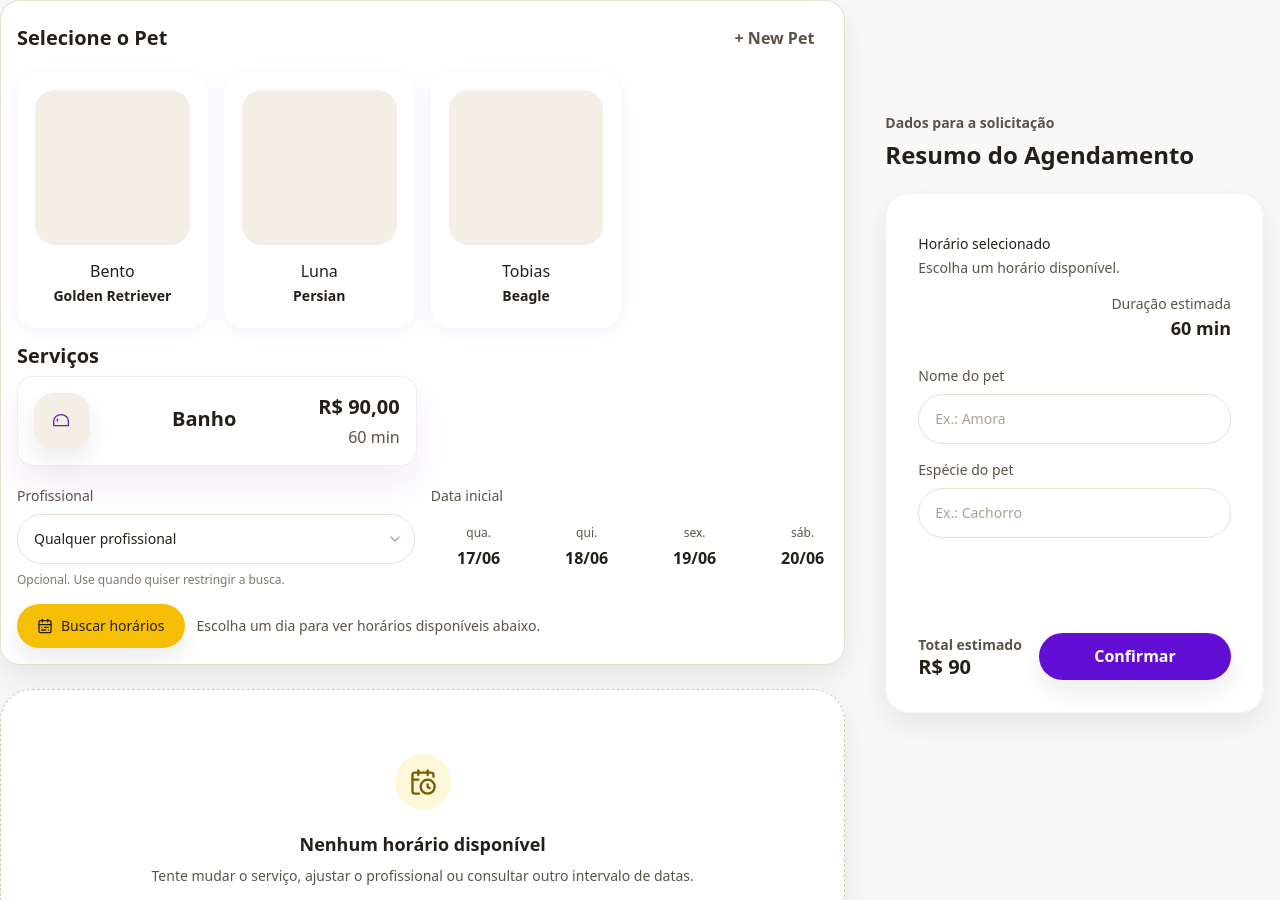
BookingPageClient › shows validation messages when the user submits without required data
Click the button "Confirmar" at (1135, 657), box [1039,633,1231,680]
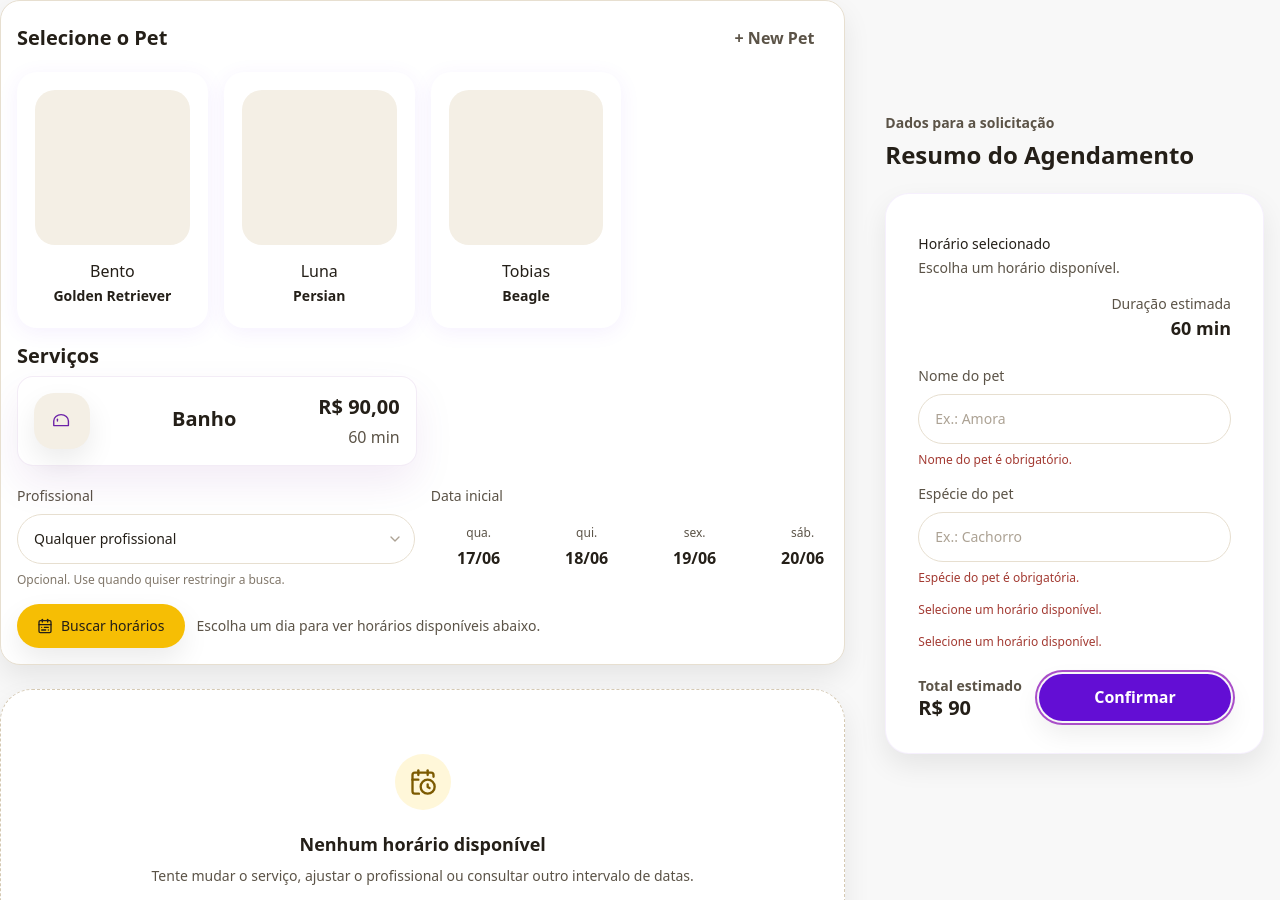
Result: the text "Nome do pet é obrigatório." is shown at [918,451,1072,468]
Result: the text "Espécie do pet é obrigatória." is shown at [918,569,1079,586]
